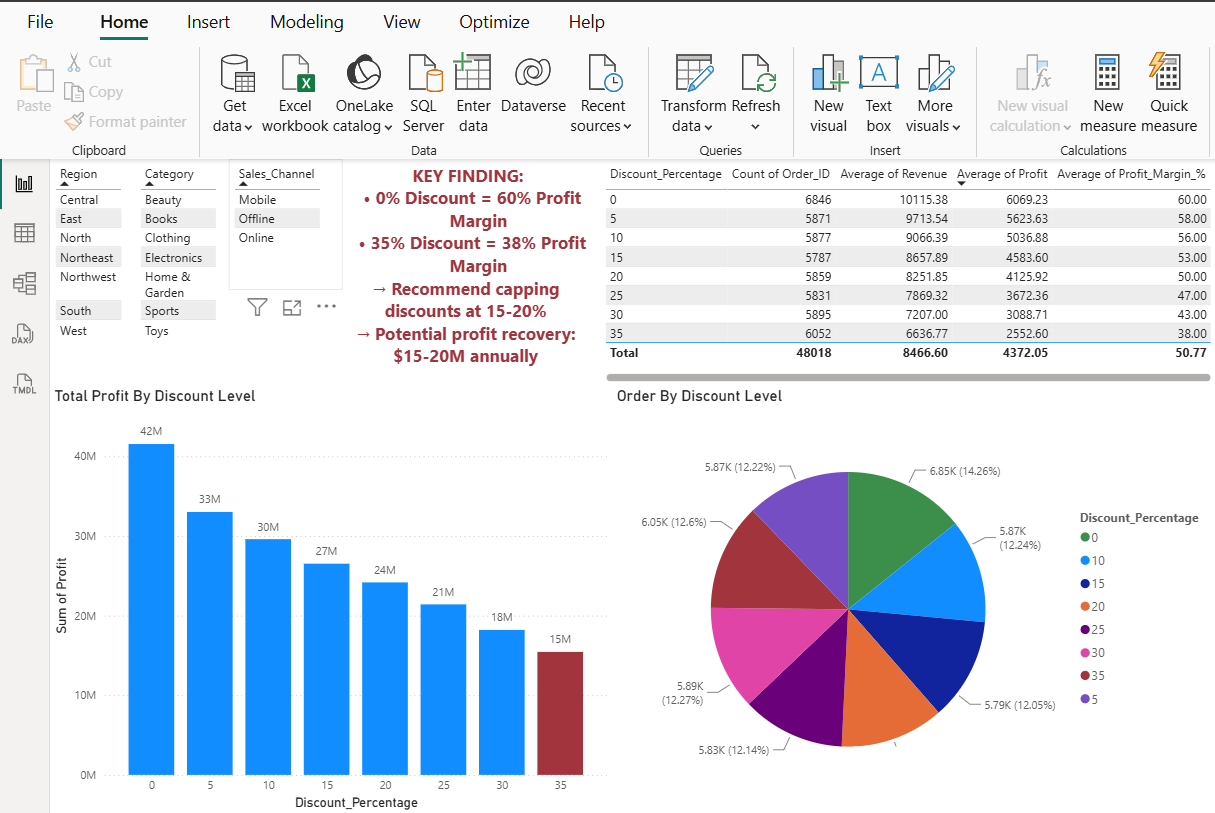

The dashboard page shown, as its layout file describes it:
{"tool":"powerbi","page":{"name":"Discount Strategy","canvas":[1280,720],"ordinal":4},"visuals":[{"type":"pieChart","title":"Order By Discount Level","fields":{"Category":["Sales_Data.Discount_Percentage"],"Y":["Count(Sales_Data.Order_ID)"]},"box":[617.2,249.4,662.8,470.4],"z":0},{"type":"clusteredColumnChart","title":"Total Profit By Discount Level","fields":{"Category":["Sales_Data.Discount_Percentage"],"Y":["Sum(Sales_Data.Profit)"]},"box":[0,249.4,617.2,470.4],"z":1000},{"type":"tableEx","fields":{"Values":["Sales_Data.Discount_Percentage","Sales_Data.Order_ID","Avg(Sales_Data.Revenue)","Avg(Sales_Data.Profit)","Avg(Sales_Data.Profit_Margin_%)"]},"box":[604.4,0,675.6,249.4],"z":2000},{"type":"textbox","box":[882.3,644.3,222.4,75.5],"z":3000},{"type":"textbox","box":[309.3,0,295.1,249.4],"z":4000},{"type":"tableEx","fields":{"Values":["Sales_Data.Region"]},"box":[0,0,92.7,206.7],"z":5000},{"type":"tableEx","fields":{"Values":["Sales_Data.Category"]},"box":[92.7,0,104.1,229.5],"z":6000},{"type":"tableEx","fields":{"Values":["Sales_Data.Sales_Channel"]},"box":[196.7,0,124,144],"z":7000}]}

Visuals, with their boxes on the page's 1280x720 design canvas (x1, y1, x2, y2). These are canvas units, not pixel positions in the 1215x813 screenshot, which may show the page scaled, cropped or inside an application window:
"Order By Discount Level" pieChart: <box>617,249,1280,720</box>
"Total Profit By Discount Level" clusteredColumnChart: <box>0,249,617,720</box>
tableEx - Sales_Data.Discount_Percentage x Sales_Data.Order_ID: <box>604,0,1280,249</box>
textbox: <box>882,644,1105,720</box>
textbox: <box>309,0,604,249</box>
tableEx - Sales_Data.Region: <box>0,0,93,207</box>
tableEx - Sales_Data.Category: <box>93,0,197,230</box>
tableEx - Sales_Data.Sales_Channel: <box>197,0,321,144</box>
